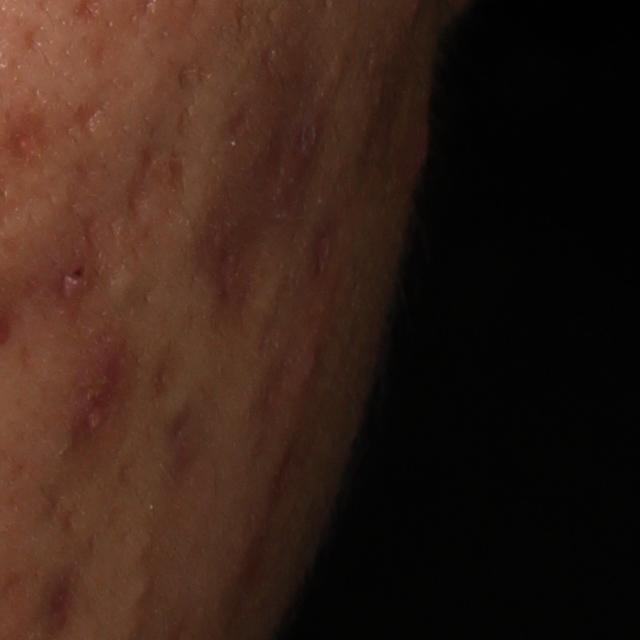atrophic_scar: (191, 192, 283, 334), (248, 68, 323, 230), (164, 402, 207, 508), (127, 150, 153, 238), (73, 93, 111, 147)
comedo: (130, 573, 154, 607)
